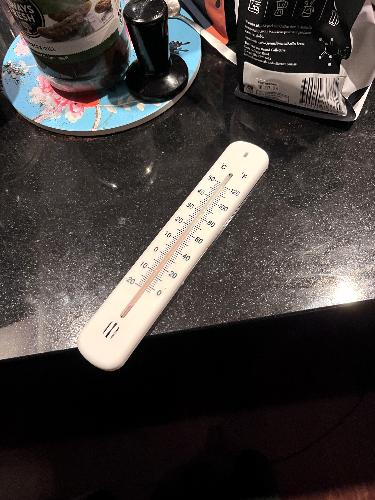thermo: (71, 130, 287, 380)
